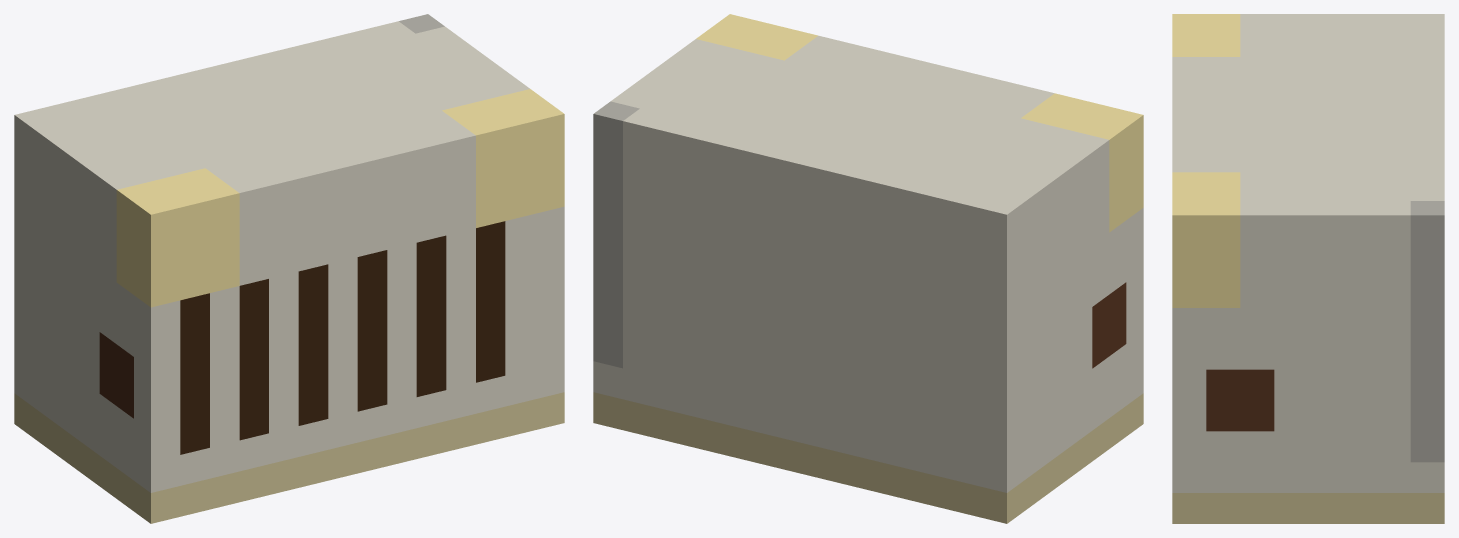
The model's file is radio.obj.
3 renders of one model, left to right at view 1: azimuth 30°, elevation 25°; view 2: azimuth 150°, elevation 25°; view 3: azimuth 270°, elevation 25°, orthographic.
Bounding box in the file's own units: 14 × 10 × 8.
